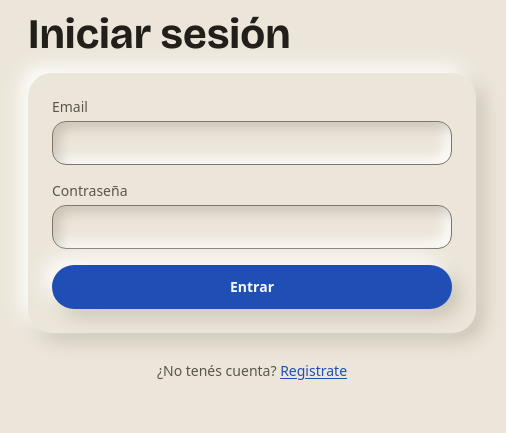
Test case: LoginPage › muestra una alerta global ante un 401 (credenciales inválidas)
The width and height of the screenshot is (506, 433).
Type "ada@example.com" into the field labelled "Email". click: (252, 143)
box: [52, 121, 452, 165]
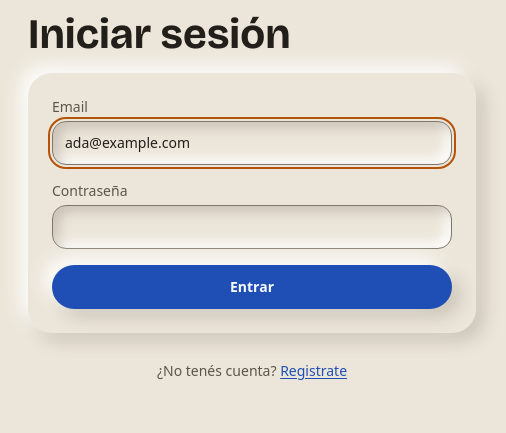
Type "wrong" into the password field labelled "Contraseña". click: (252, 227)
box: [52, 205, 452, 249]
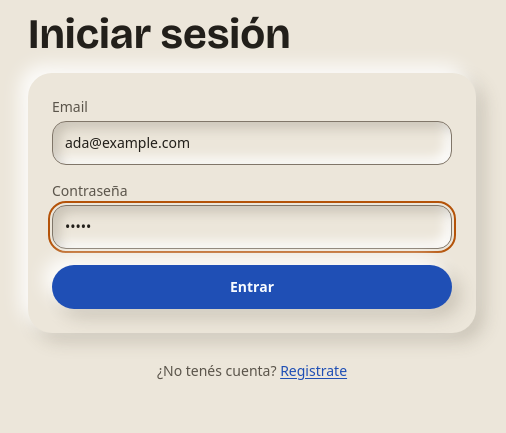
Click the button "Entrar". click: (252, 287)
box: [52, 265, 452, 309]
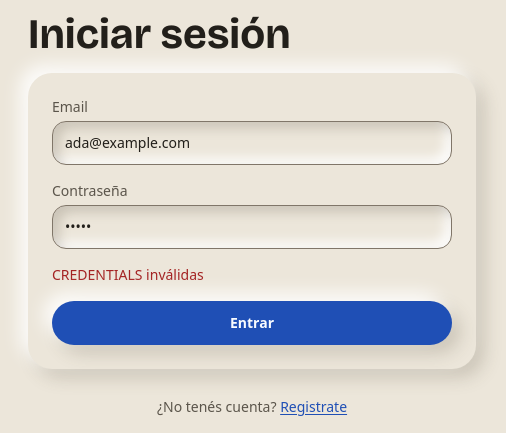
Now the text "CREDENTIALS inválidas" is shown, box [52, 265, 204, 284]
